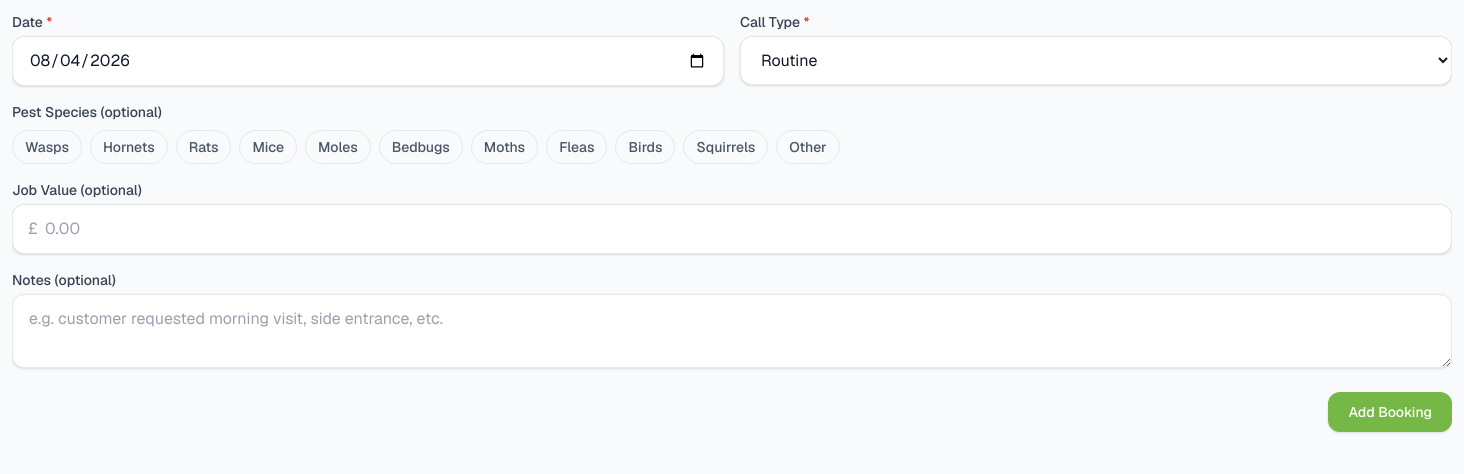
Test: QuickBookingForm — typed input survives a failed submit › keeps notes, value and date after a SERVER validation bounce
Type "Ring the bell twice" into the text box labelled "Notes (optional)" at (732, 331), box [12, 294, 1452, 368]
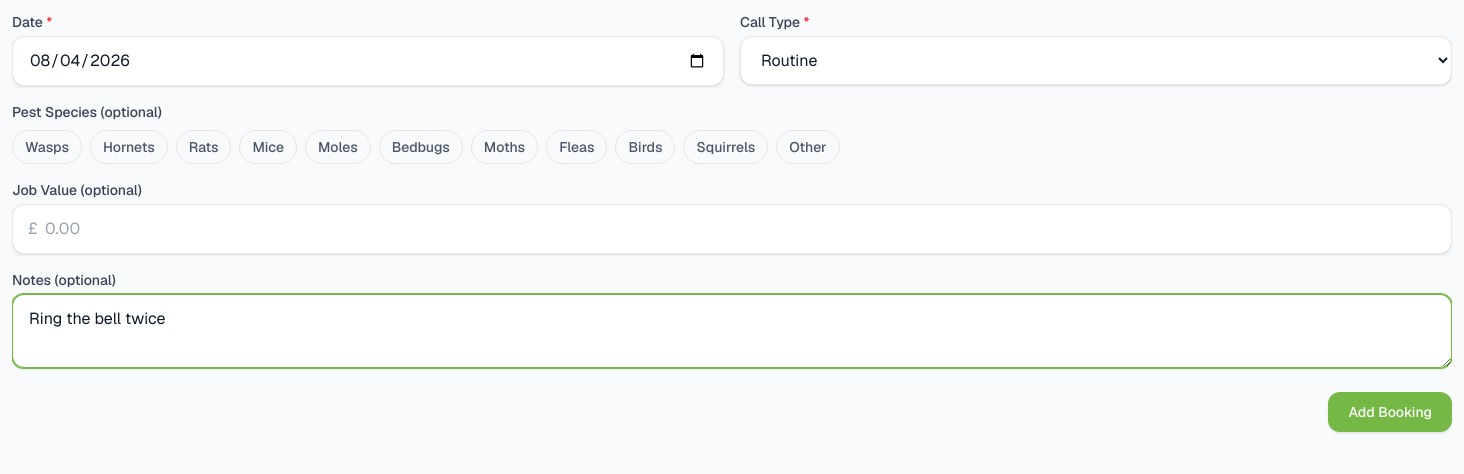
Type "240" into the number field labelled "Job Value (optional)" at (732, 229), box [12, 204, 1452, 254]
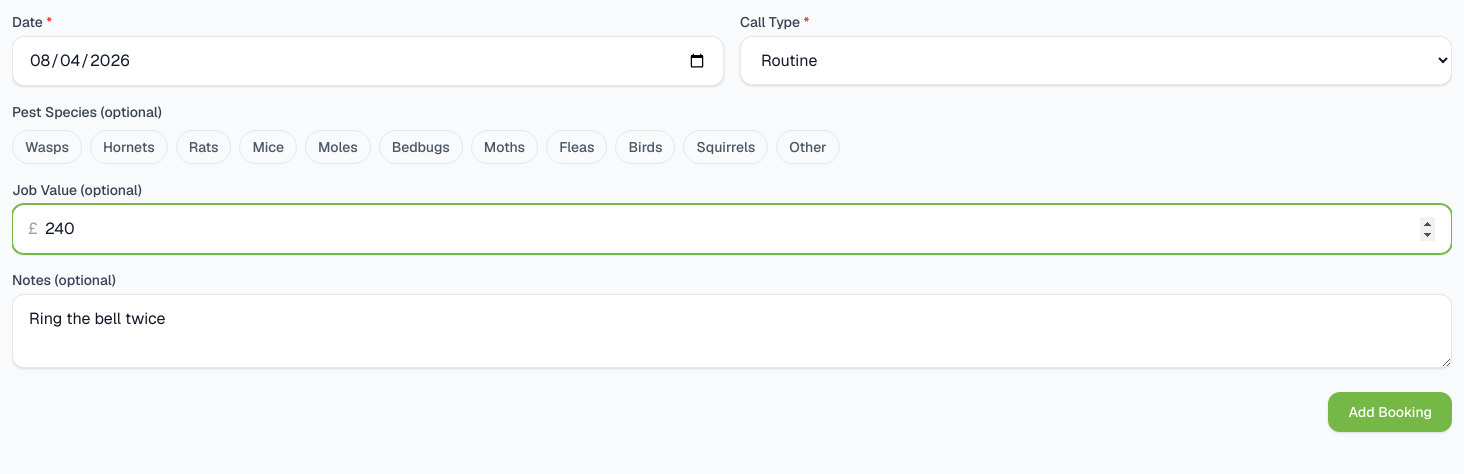
Click the button "Add Booking" at (1390, 412), box [1328, 392, 1452, 432]
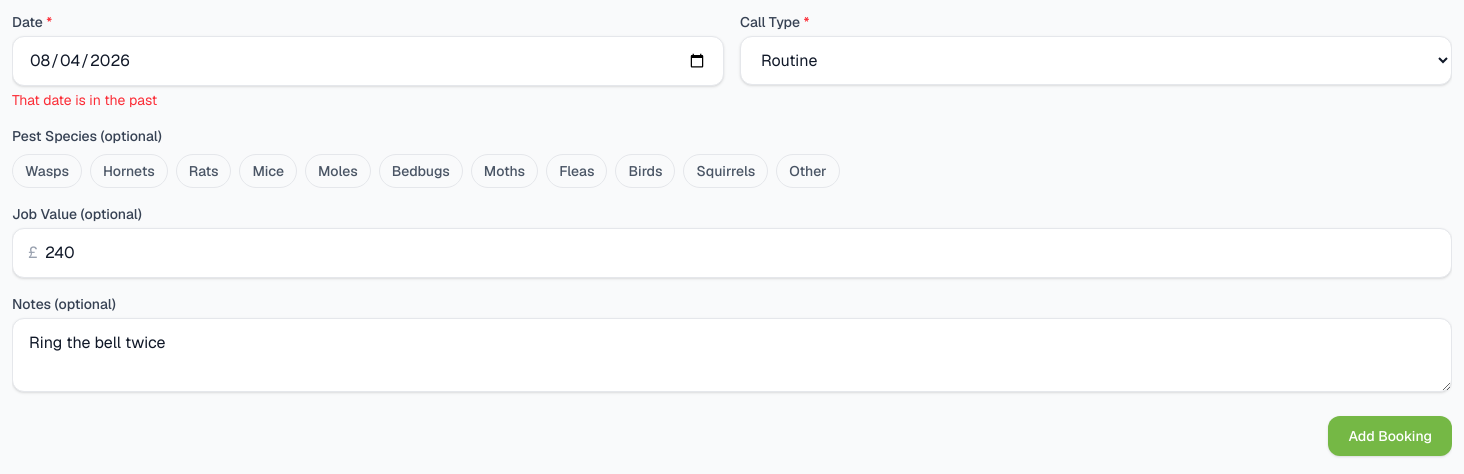
Expected: the text "That date is in the past" is shown, [12, 91, 157, 109]
